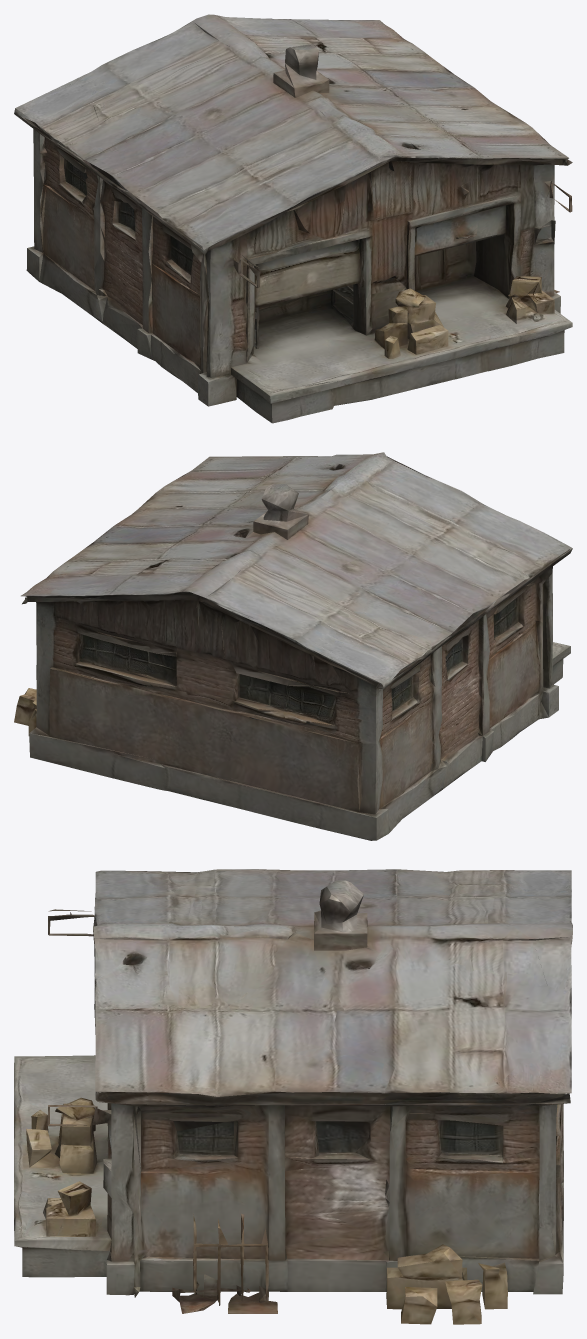
Rendered from transportadora.glb.
The picture shows the model from 3 angles, top to bottom: view 1: azimuth 30°, elevation 25°; view 2: azimuth 150°, elevation 25°; view 3: azimuth 270°, elevation 25°; orthographic projection. The views are drawn at different scales.
Parts seen in each view (by area): view 1: transportadora; view 2: transportadora; view 3: transportadora.
Part boxes in pixels (x1=…): transportadora: x1=14, y1=14, x2=572, y2=423; transportadora: x1=14, y1=452, x2=572, y2=840; transportadora: x1=14, y1=869, x2=572, y2=1324.
Size of the model in its own units: 14.99 by 8.68 by 14.19.
Materials: 1 (1 with a texture image).
